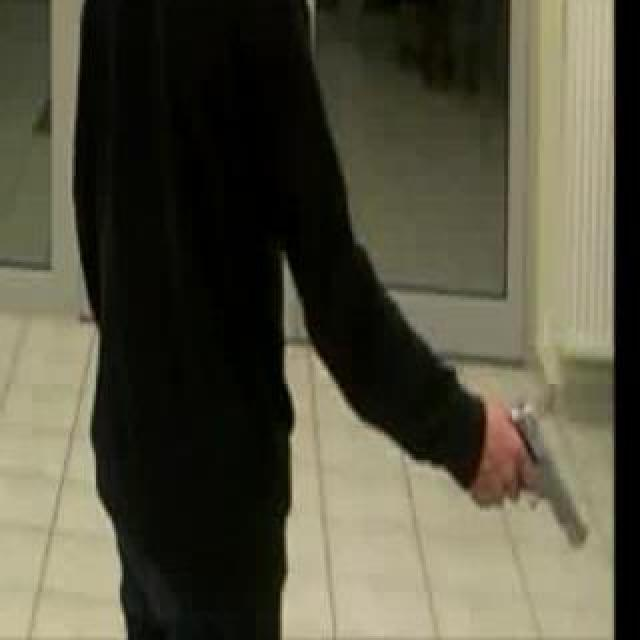Guns: (483, 386, 606, 571)
